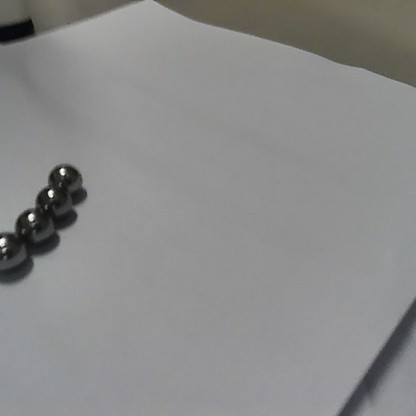ironball: (43, 156, 91, 195), (13, 204, 54, 245), (0, 228, 31, 275), (34, 185, 72, 216)
